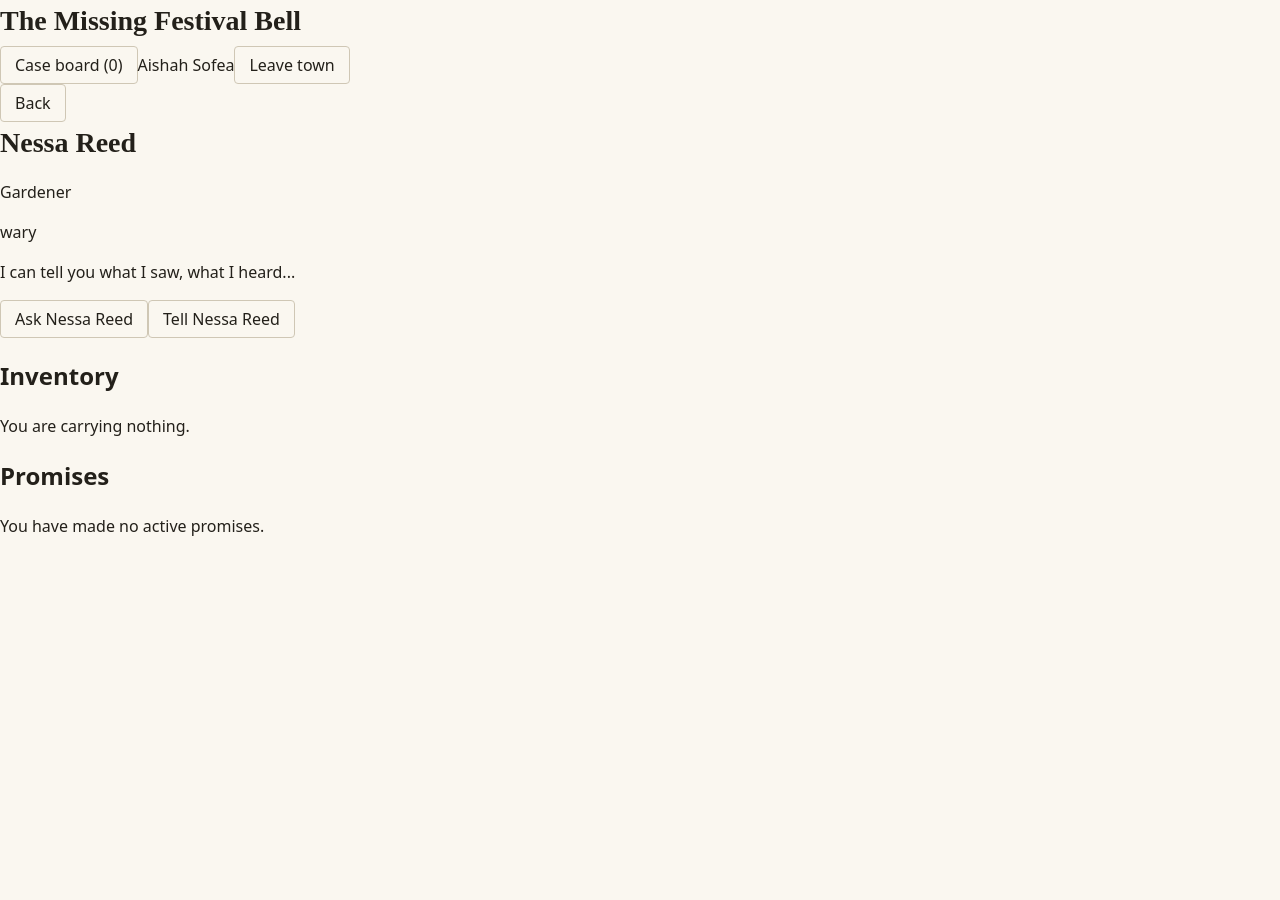
Test: Encounter — Tell interpretation (P4-19) › shows Alleged source when the normalizer returns one
Click the button "Tell Nessa Reed".
click(221, 319)  # box [148,300,295,338]
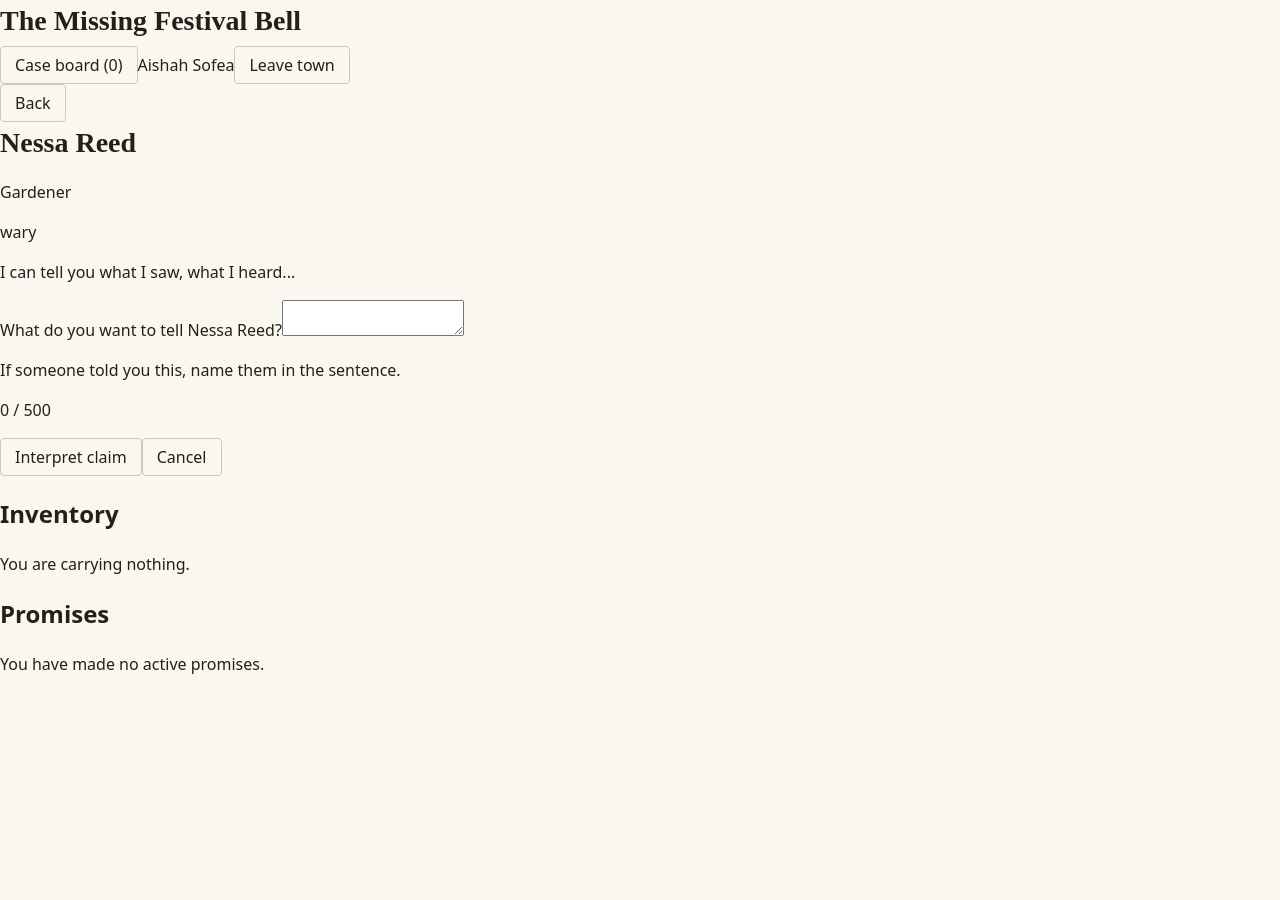
Type "Corin said the bell is hidden." into the text box labelled "What do you want to tell Nessa Reed?".
click(373, 318); type("Corin said the bell is hidden.")  # box [282,300,464,336]
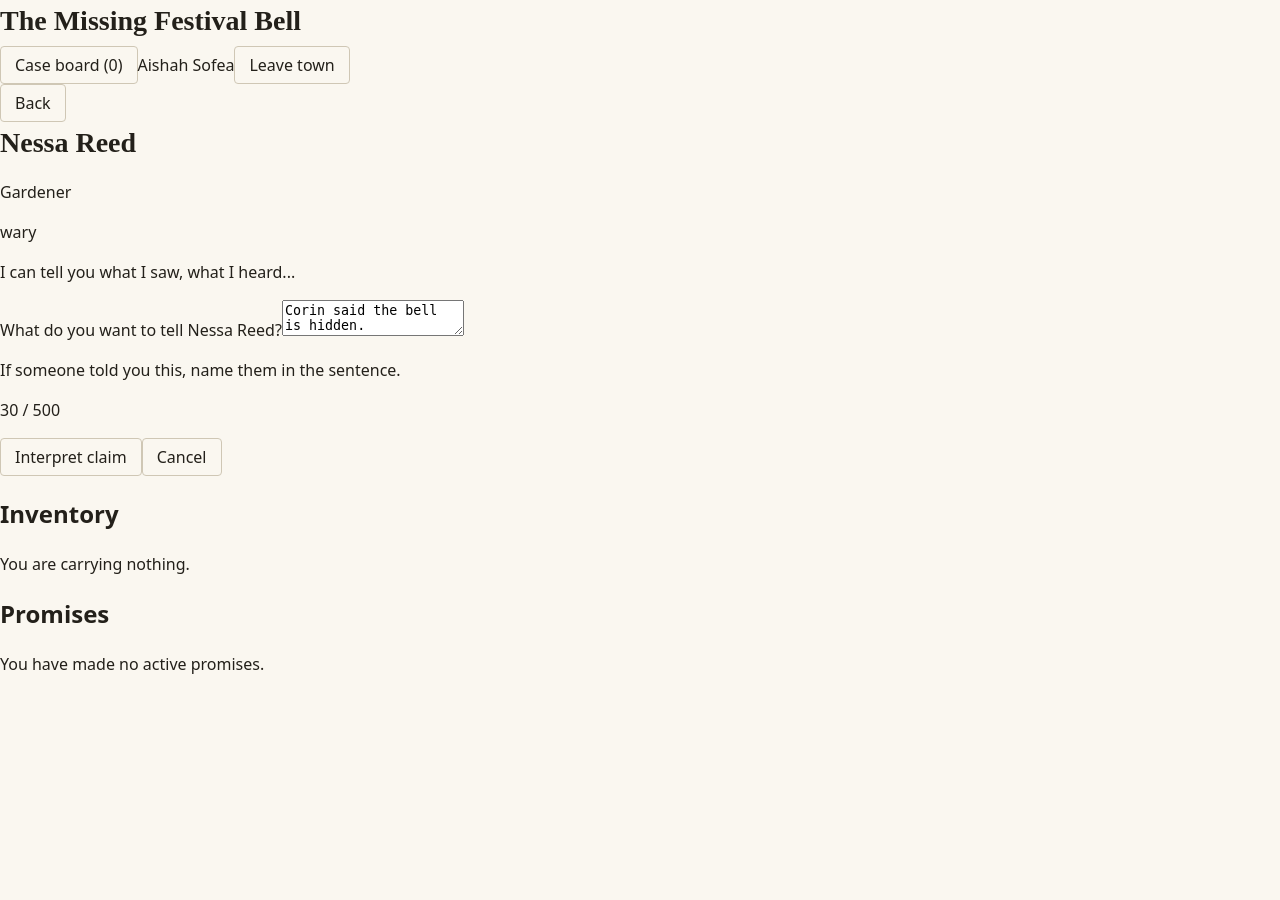
Click the button "Interpret claim".
click(71, 457)  # box [0,438,142,476]
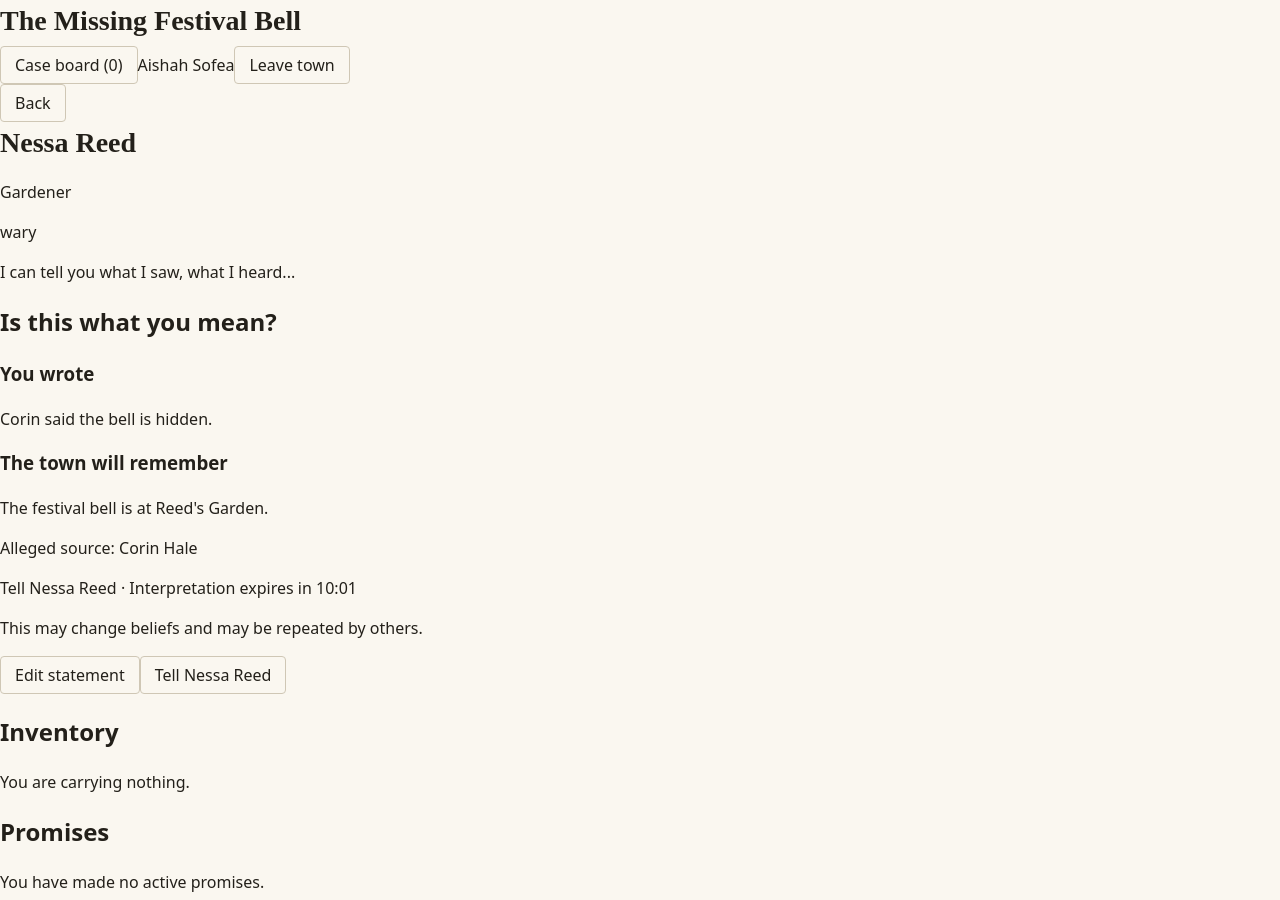
Expected: the dialog "Is this what you mean?" shows "Alleged source: Corin Hale", [0,537,198,559]
